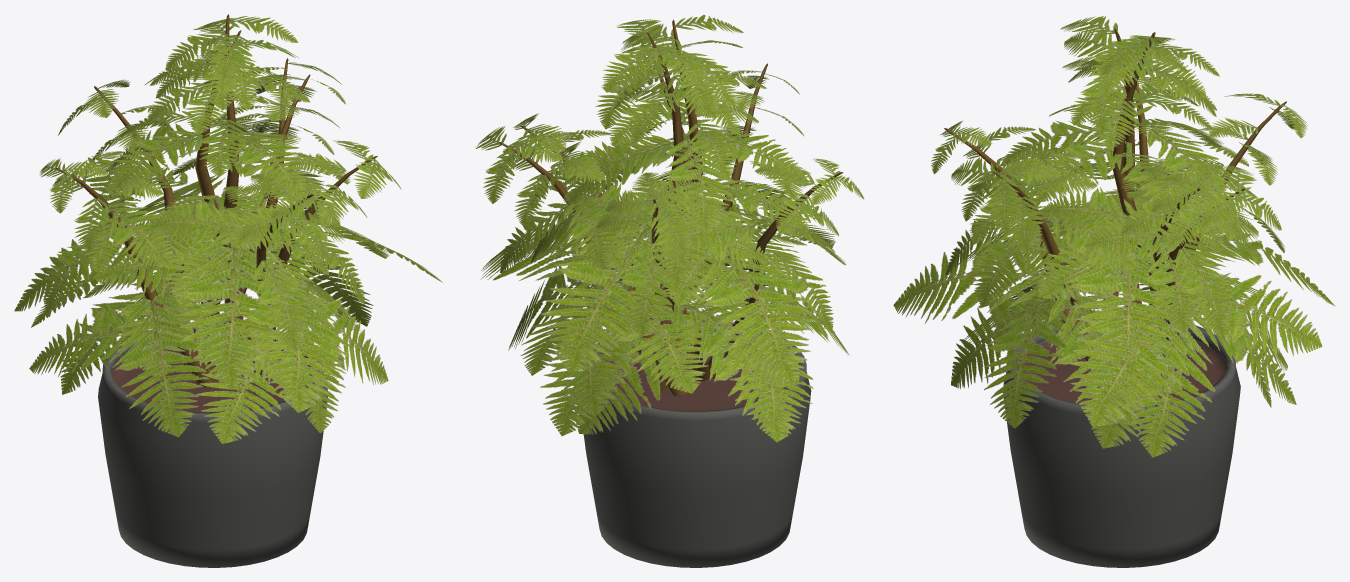
The model's file is potted_plant_a.glb.
3 renders of one model, left to right at view 1: azimuth 30°, elevation 25°; view 2: azimuth 150°, elevation 25°; view 3: azimuth 270°, elevation 25°, orthographic. The views are drawn at different scales.
Visible parts, largest first — view 1: Leaves_0001, Leaves_0002, PlantPot_0001, Branches_0001, Branches_0002, Dirt_0001; view 2: Leaves_0002, Leaves_0001, PlantPot_0001, Branches_0002, Dirt_0001, Branches_0001; view 3: Leaves_0001, Leaves_0002, PlantPot_0001, Dirt_0001, Branches_0002, Branches_0001.
Boxes of the visible parts, left/top/right/bottom form: Leaves_0001: left=14, top=34, right=401, bottom=437; Leaves_0002: left=31, top=16, right=442, bottom=443; PlantPot_0001: left=98, top=323, right=327, bottom=567; Branches_0001: left=55, top=30, right=377, bottom=387; Branches_0002: left=94, top=14, right=313, bottom=379; Dirt_0001: left=111, top=345, right=312, bottom=412; Leaves_0002: left=475, top=19, right=846, bottom=437; Leaves_0001: left=495, top=14, right=864, bottom=442; PlantPot_0001: left=581, top=320, right=811, bottom=567; Branches_0002: left=498, top=32, right=767, bottom=390; Dirt_0001: left=604, top=345, right=786, bottom=411; Branches_0001: left=520, top=19, right=843, bottom=395; Leaves_0001: left=893, top=16, right=1322, bottom=448; Leaves_0002: left=931, top=35, right=1335, bottom=457; PlantPot_0001: left=1003, top=314, right=1240, bottom=567; Dirt_0001: left=1017, top=332, right=1226, bottom=406; Branches_0002: left=944, top=32, right=1286, bottom=387; Branches_0001: left=992, top=29, right=1200, bottom=344.
Size of the model in its own units: 0.6184 by 0.768 by 0.6026.
2 materials, 2 textured.
